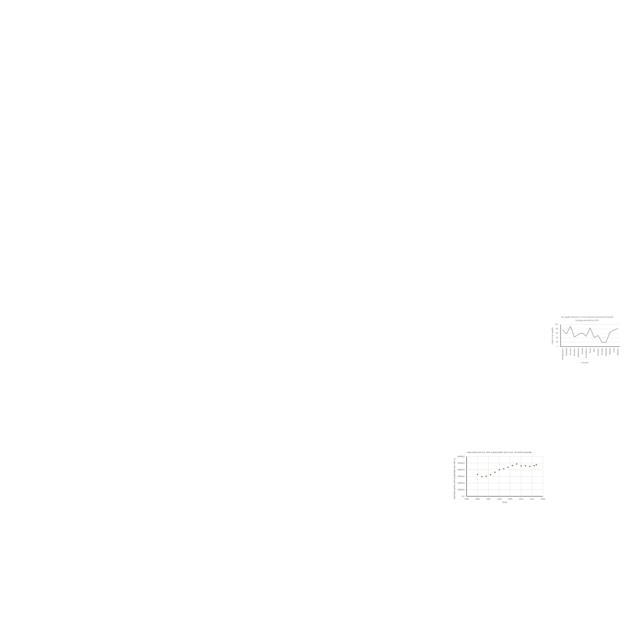Graph: (452, 450, 547, 506), (549, 314, 621, 365)
